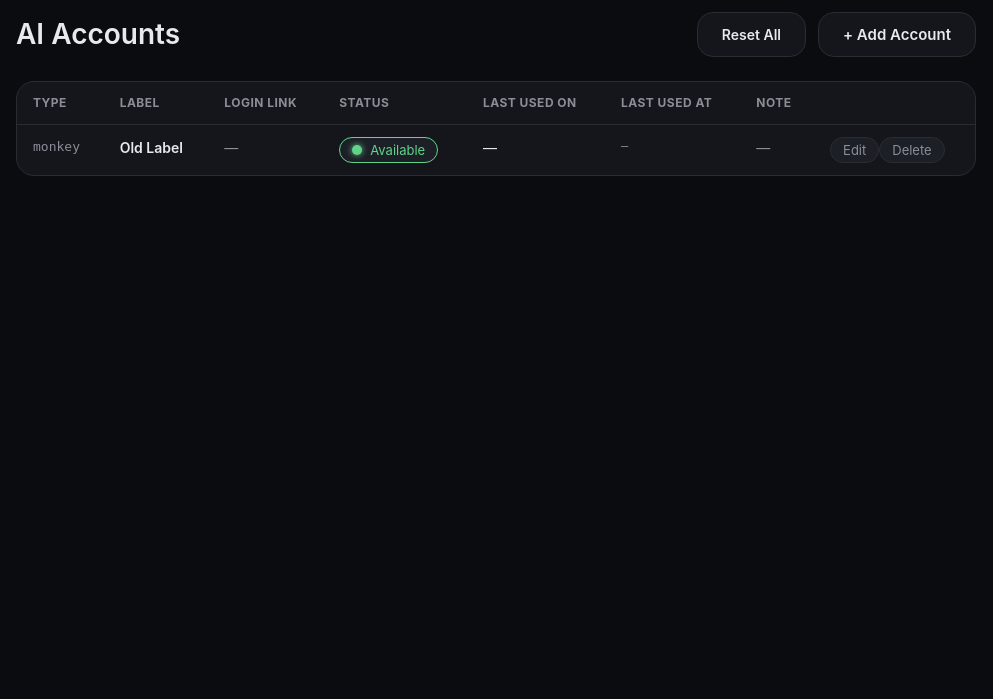
Scenario: Route /accounts — AccountsList › edits an existing account through the form
Expected: the text "Old Label" is shown, [104,124,208,175]
Click the button "Edit" at (855, 150), box [830,137,879,163]
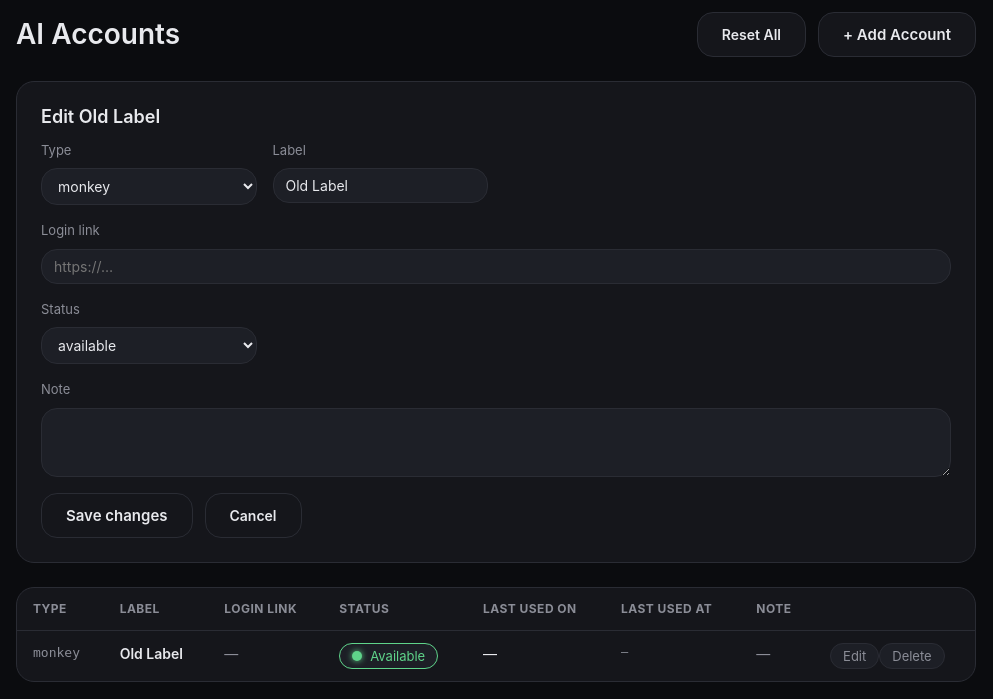
Replace the text in the field labelled "Label" with "New Label" at (380, 186), box [272,168,488,203]
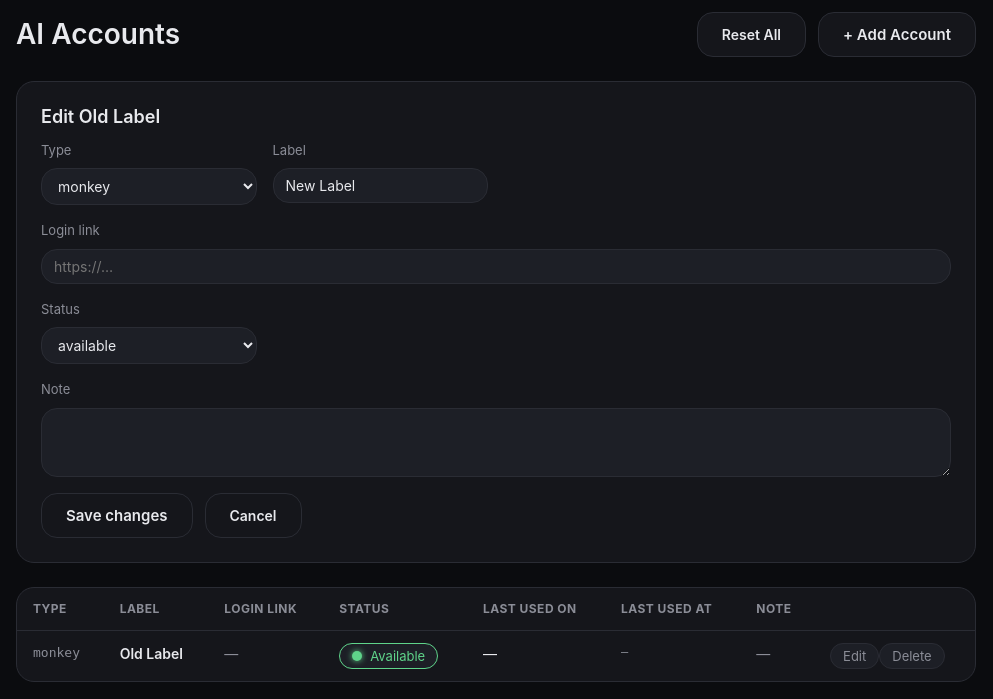
Click the button "Save changes" at (117, 515), box [41,492,192,538]
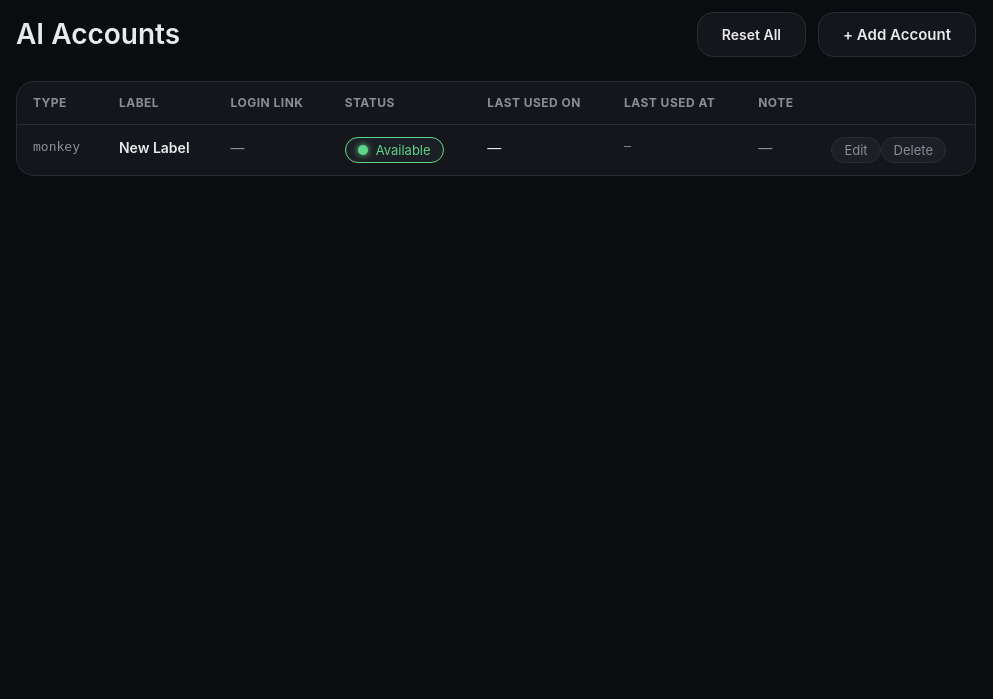
Now the text "New Label" is shown, box [103,124,215,175]
Now the heading "Old Label" is gone
